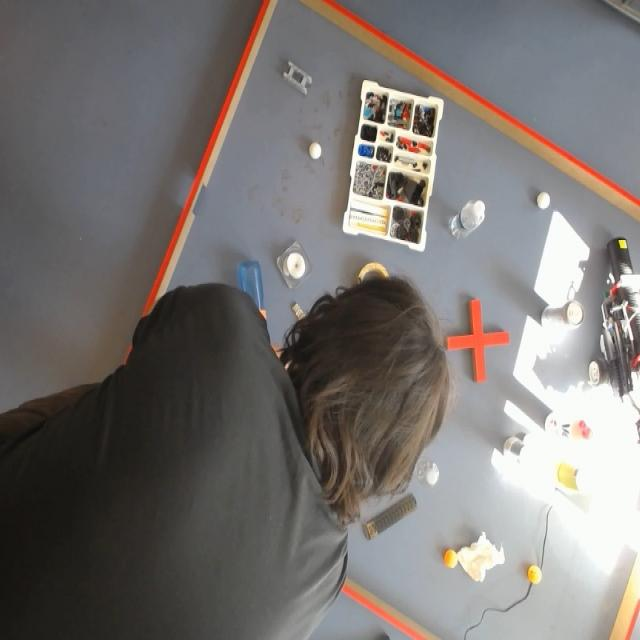orange: (527, 564, 541, 584), (444, 548, 456, 568)
robot: (589, 237, 640, 441)
robot-front: (616, 238, 628, 251)
white: (534, 189, 552, 212), (310, 143, 321, 159)
